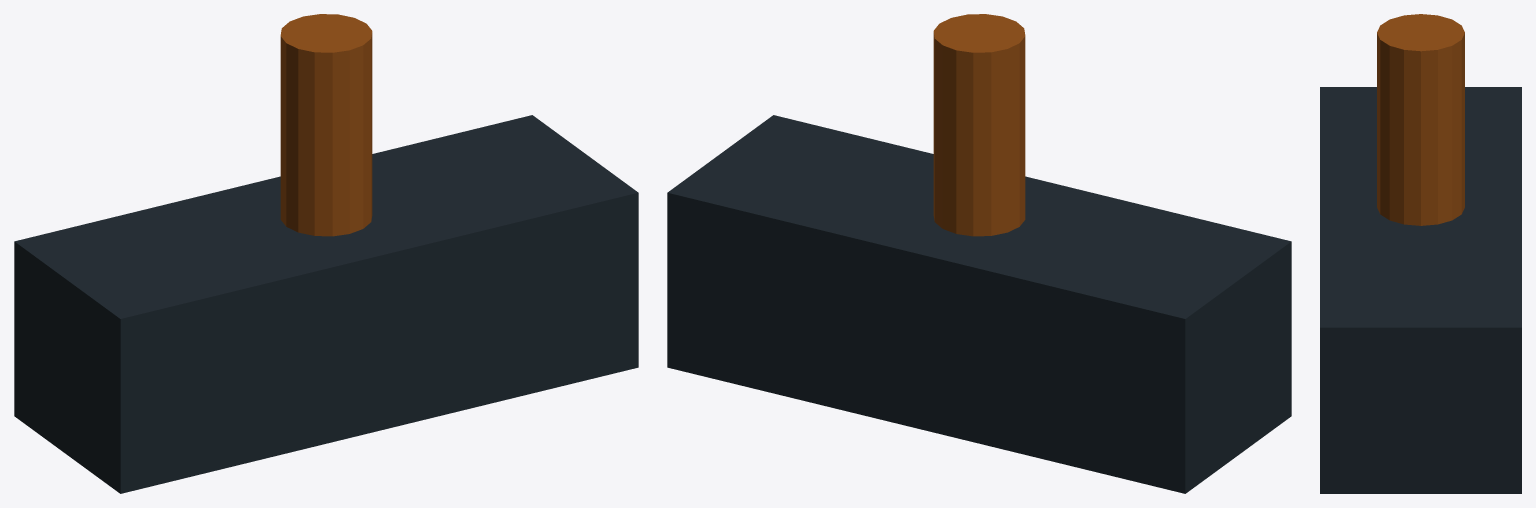
File: waste_bin.obj
3 renders of one model, left to right at view 1: azimuth 30°, elevation 25°; view 2: azimuth 150°, elevation 25°; view 3: azimuth 270°, elevation 25°, orthographic. The views are drawn at different scales.
Parts seen in each view (by area): view 1: painted_metal, brass; view 2: painted_metal, brass; view 3: painted_metal, brass.
Boxes of the visible parts, box(x1,y1,x2,y2) form: painted_metal: box(14, 115, 638, 493); brass: box(280, 14, 372, 236); painted_metal: box(667, 115, 1291, 493); brass: box(933, 14, 1025, 236); painted_metal: box(1320, 87, 1521, 493); brass: box(1377, 14, 1464, 225).
Bounding box in the file's own units: 1.55 × 1.02 × 0.55.
